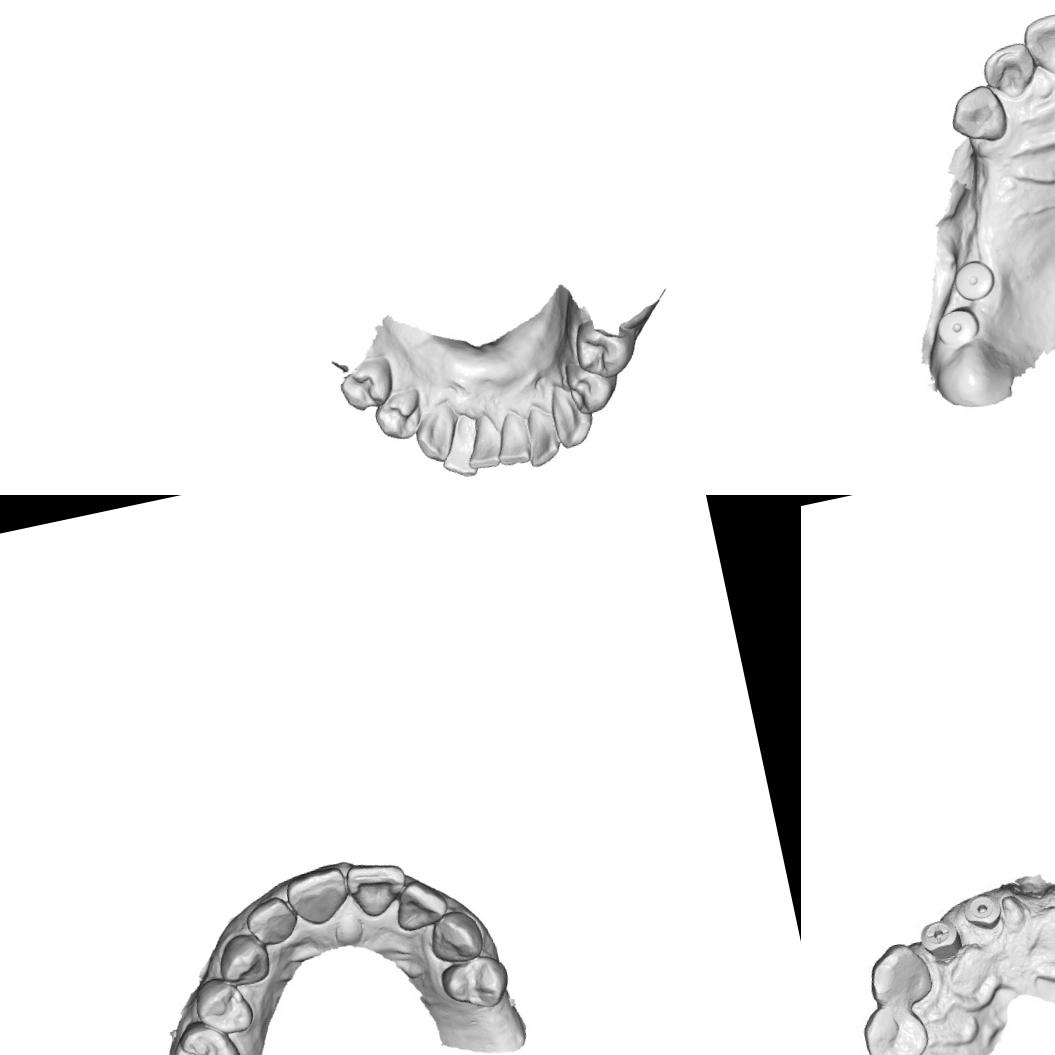canine: (862, 944, 936, 1011), (943, 79, 1012, 150), (542, 376, 600, 452), (423, 905, 487, 968), (408, 398, 466, 467), (212, 929, 274, 990)
implant: (946, 255, 1001, 306), (931, 302, 985, 352), (960, 889, 1002, 931)
implant_plus: (914, 914, 961, 960)
incisor: (280, 862, 354, 930), (341, 854, 413, 923), (430, 409, 488, 484), (977, 39, 1042, 105), (389, 874, 452, 935), (241, 892, 302, 950), (517, 399, 563, 469), (458, 410, 506, 473), (488, 406, 533, 470), (1018, 6, 1055, 81)
molar: (165, 1012, 248, 1055)
premolar: (566, 308, 644, 384), (434, 948, 516, 1017), (189, 971, 257, 1041), (559, 348, 625, 420), (334, 351, 400, 416), (368, 383, 430, 446), (858, 1002, 928, 1055)
